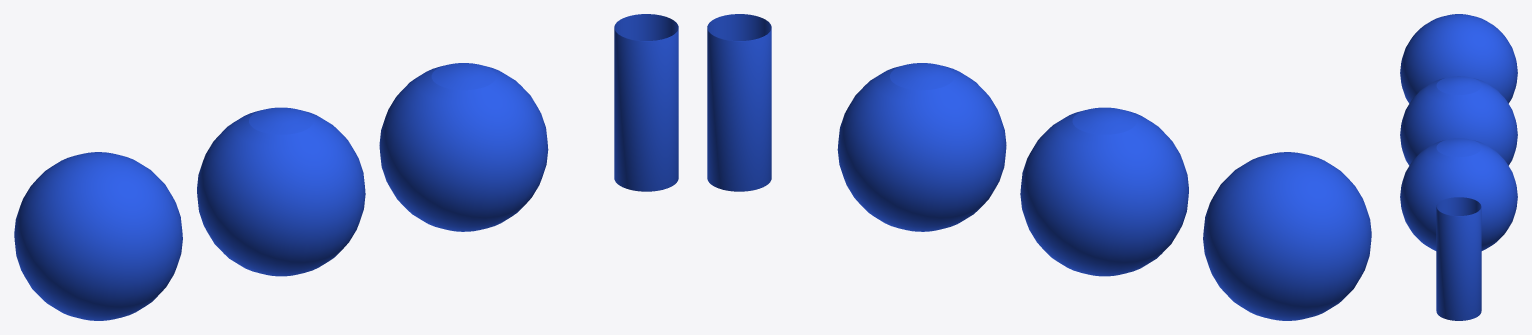
The model's file is rooms.fbx.
3 renders of one model, left to right at view 1: azimuth 30°, elevation 25°; view 2: azimuth 150°, elevation 25°; view 3: azimuth 270°, elevation 25°, orthographic. The views are drawn at different scales.
Visible parts, largest first — view 1: Sphere, SphereTopDownWholes, SphereTopWhole, TunnelVertical, TopCup.001, TopCup; view 2: Sphere, SphereTopDownWholes, SphereTopWhole, TunnelVertical, TopCup.001, TopCup; view 3: SphereTopWhole, Sphere, SphereTopDownWholes, TunnelVertical, TopCup.001, TopCup.
Boxes of the visible parts, x1,y1,x2,y2 form: Sphere: (14,152,182,320); SphereTopDownWholes: (197,110,365,276); SphereTopWhole: (379,65,548,231); TunnelVertical: (614,14,678,191); TopCup.001: (249,107,313,134); TopCup: (431,63,495,90); Sphere: (1203,152,1371,320); SphereTopDownWholes: (1020,110,1188,276); SphereTopWhole: (837,65,1006,231); TunnelVertical: (707,14,771,191); TopCup.001: (1072,107,1136,134); TopCup: (890,63,954,90); SphereTopWhole: (1400,140,1517,250); Sphere: (1400,14,1517,103); SphereTopDownWholes: (1400,78,1517,165); TunnelVertical: (1436,197,1481,320); TopCup.001: (1436,76,1481,94); TopCup: (1436,138,1481,157).
Size of the model in its own units: 1777 by 401 by 401.
